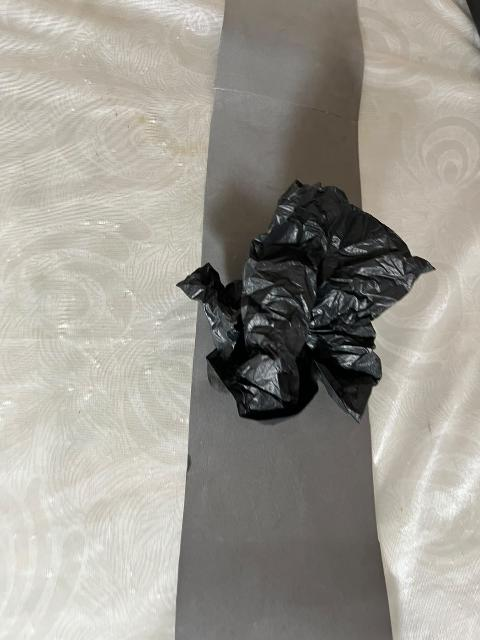LDPE: (180, 164, 442, 480)
